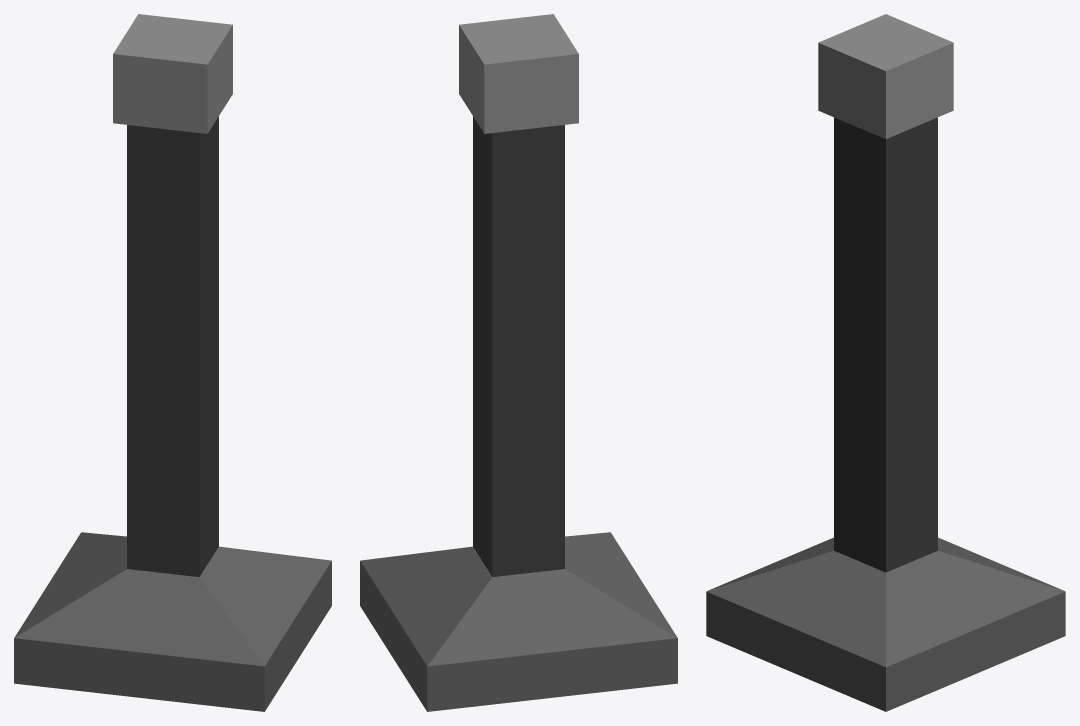
Rendered from rope_line_post.FBX.
The picture shows the model from 3 angles, left to right: view 1: azimuth 30°, elevation 25°; view 2: azimuth 150°, elevation 25°; view 3: azimuth 270°, elevation 25°; orthographic projection. The views are drawn at different scales.
Parts seen in each view (by area): view 1: rope_line_post; view 2: rope_line_post; view 3: rope_line_post.
Part boxes in pixels (box(x1,y1,x2,y2)): rope_line_post: box(14, 14, 331, 711); rope_line_post: box(360, 14, 677, 711); rope_line_post: box(706, 14, 1065, 711).
Size of the model in its own units: 27.84 by 50.69 by 27.84.
